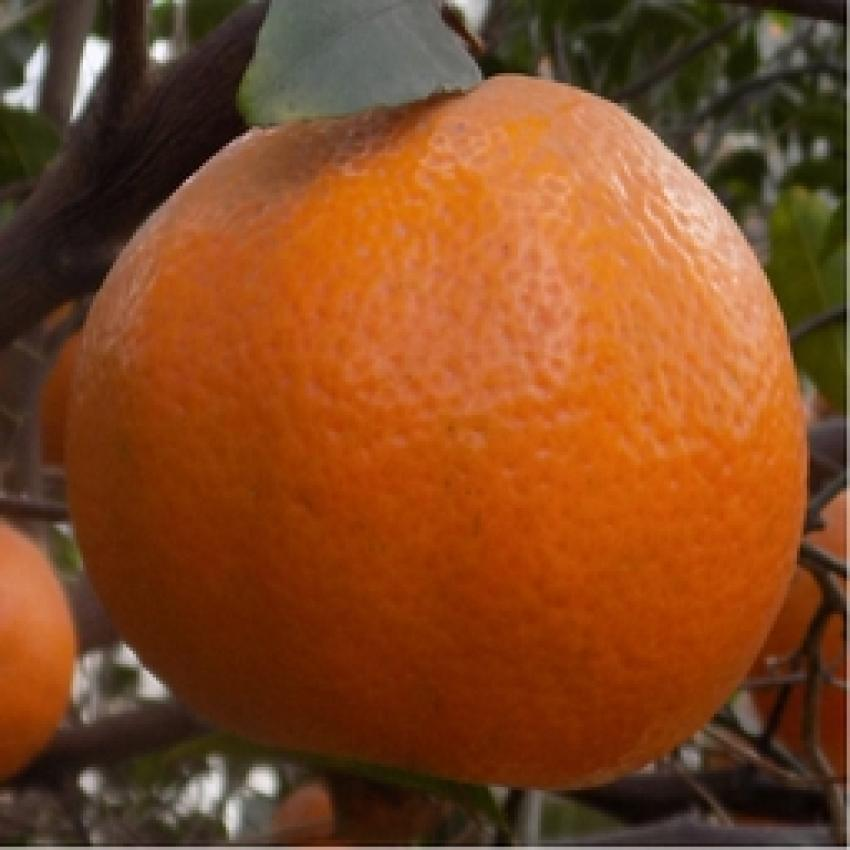Buen estado: (54, 41, 790, 799)
